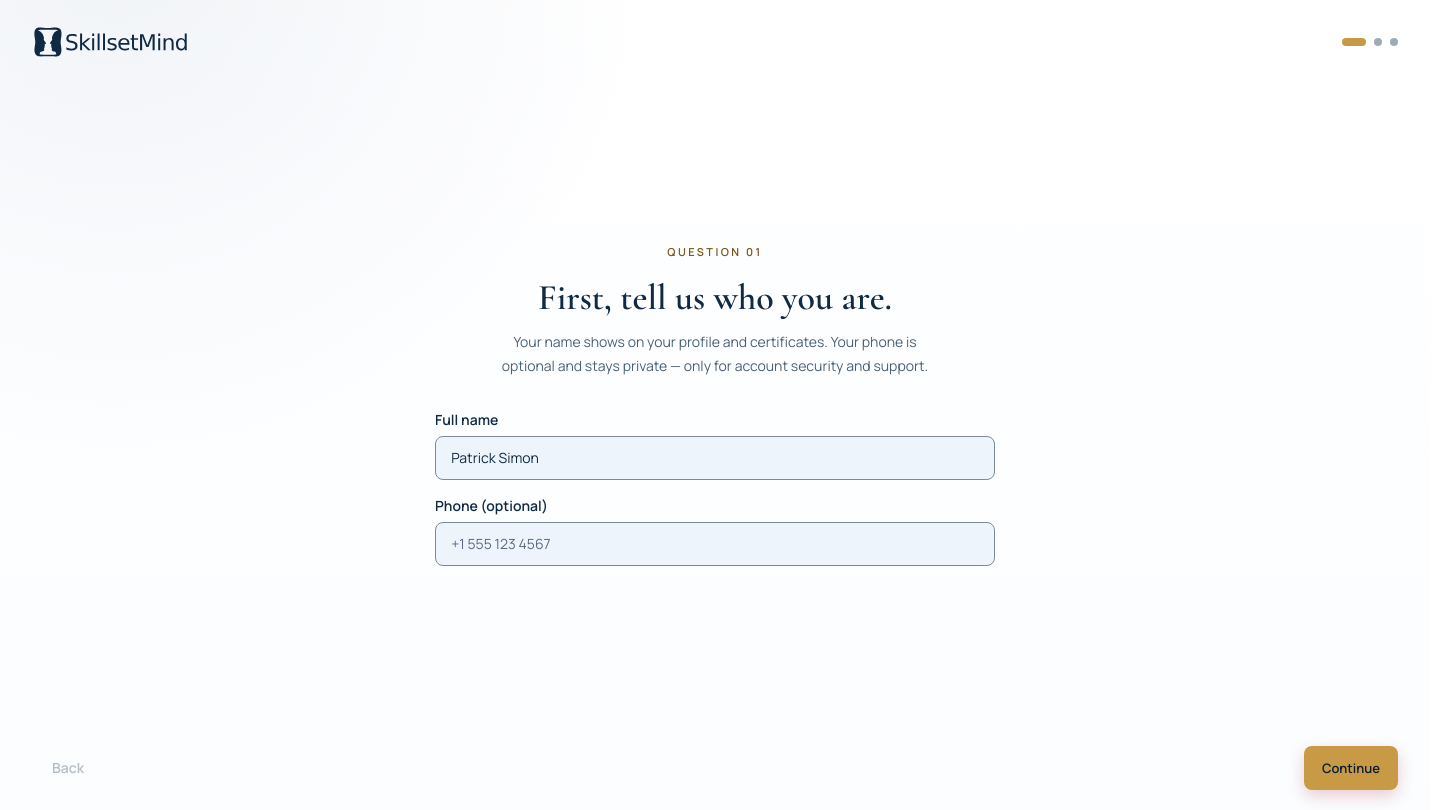
boas-vindas: o passo de perfil vem primeiro › aluno: o telefone e opcional — vazio passa, e nada e inventado no perfil
The image size is (1440, 810).
Expected: the heading "First, tell us who you are." is shown, [538, 276, 892, 319]
Expected: the field labelled "Phone (optional)" is empty, [435, 522, 995, 566]
Click the button "Continue" at (1351, 768), box [1304, 746, 1398, 790]
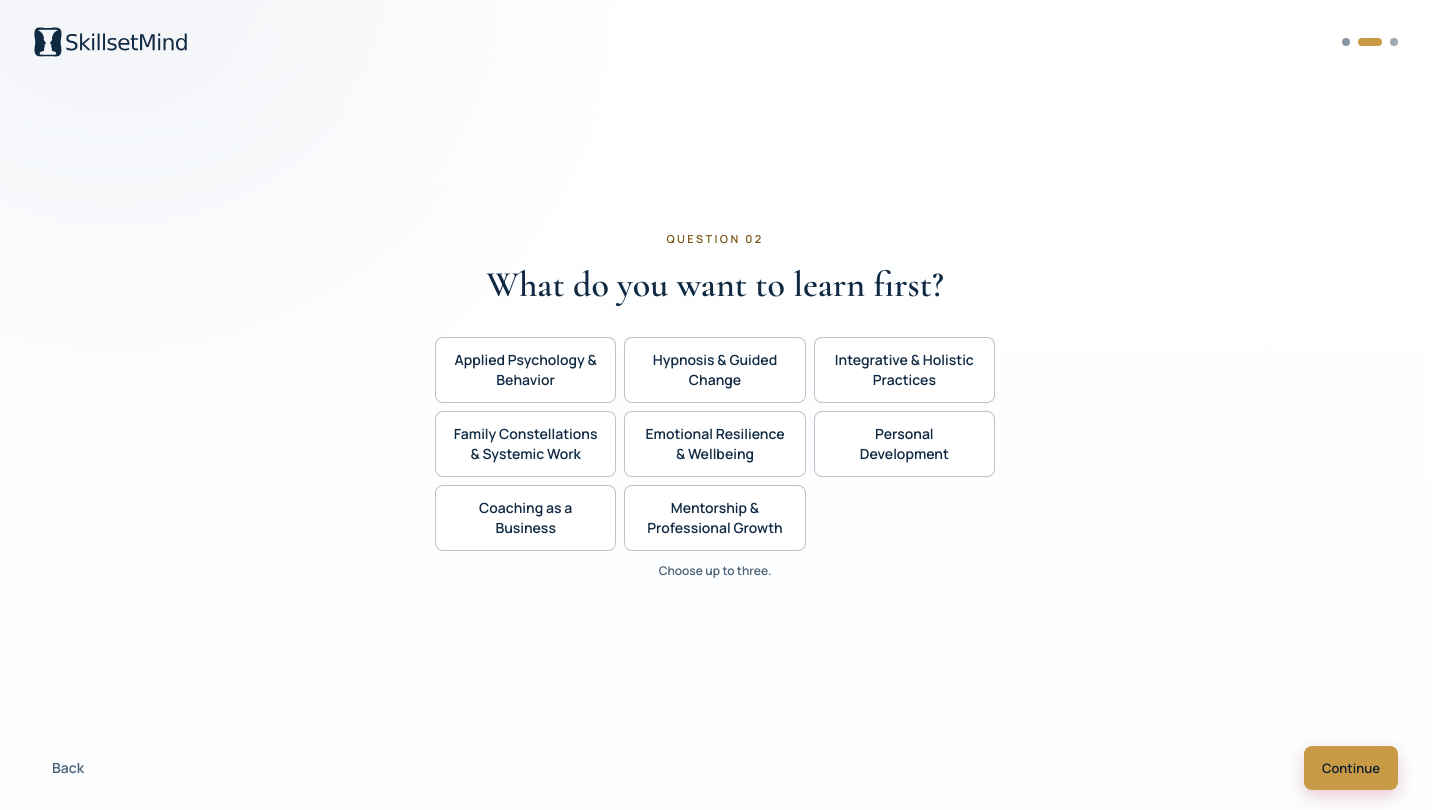
Expected: the heading "What do you want to learn first?" is shown, [486, 262, 944, 306]
